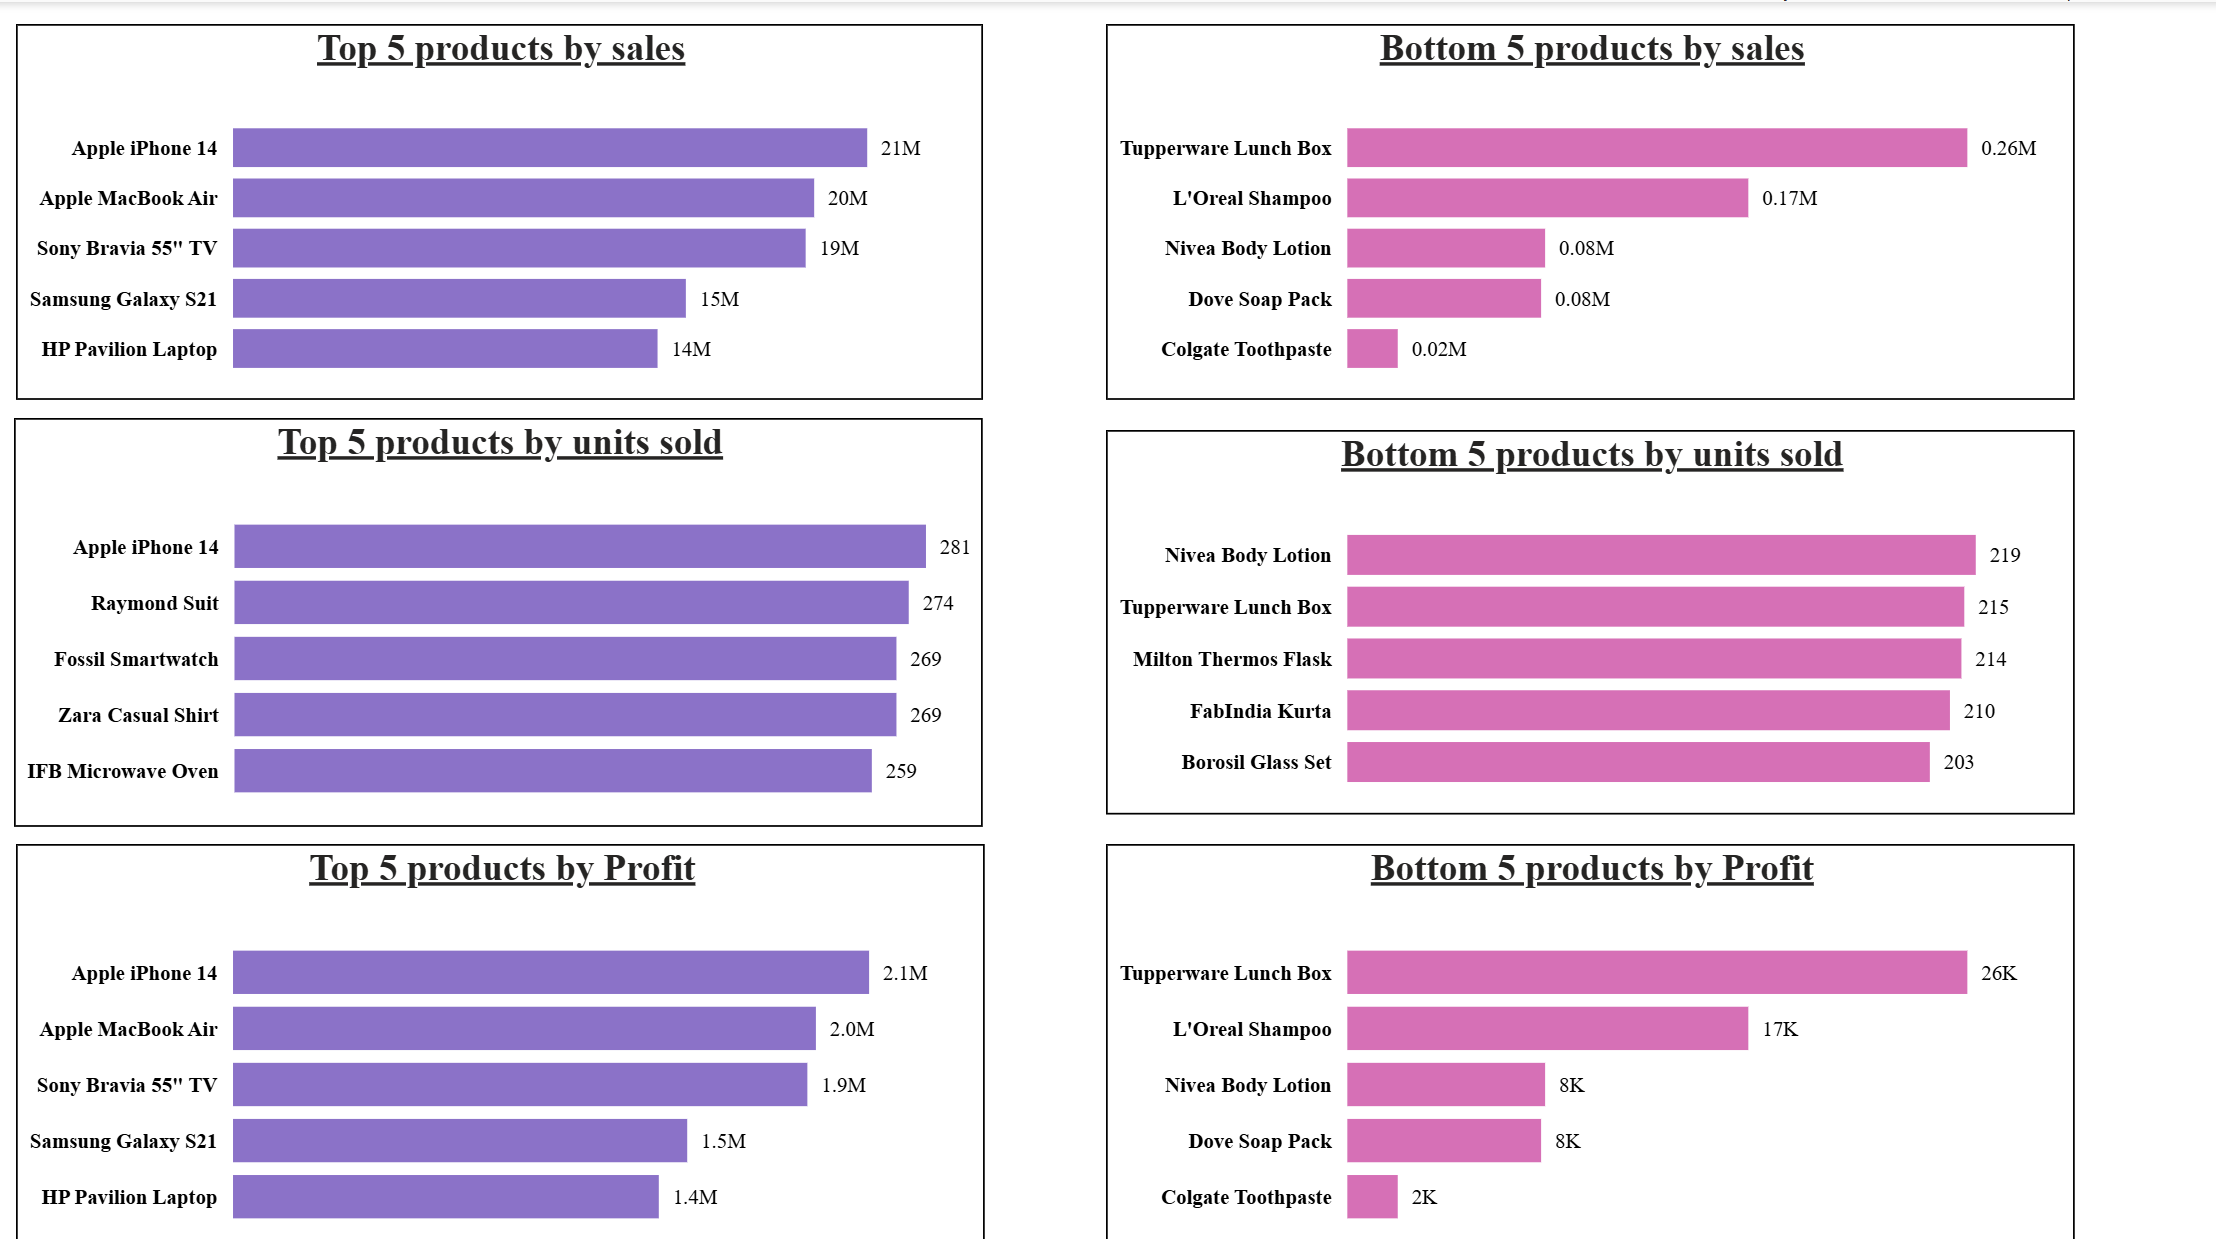

What the dashboard file says about the page in this screenshot:
{"tool":"powerbi","page":{"name":" Top/Bottom 5 Analysis","canvas":[1280,720],"ordinal":1},"visuals":[{"type":"barChart","title":"Top 5 products by sales","fields":{"Category":["Dim Product.Product Name"],"Y":["Sum(Fact Table.Net  Sales)"]},"box":[12.7,12.7,557,216.5],"z":0},{"type":"barChart","title":"Bottom 5 products by sales","fields":{"Category":["Dim Product.Product Name"],"Y":["Sum(Fact Table.Net  Sales)"]},"box":[640.5,12.7,558.2,216.5],"z":1000},{"type":"barChart","title":"Top 5 products by units sold","fields":{"Category":["Dim Product.Product Name"],"Y":["Sum(Fact Table.Units Sold)"]},"box":[11.4,239.2,558.2,235.4],"z":2000},{"type":"barChart","title":"Bottom 5 products by units sold","fields":{"Category":["Dim Product.Product Name"],"Y":["Sum(Fact Table.Units Sold)"]},"box":[640.5,246.2,558.2,221.5],"z":3000},{"type":"barChart","title":"Top 5 products by Profit","fields":{"Category":["Dim Product.Product Name"],"Y":["Sum(Fact Table.Profit)"]},"box":[12.7,484.6,558.2,235.4],"z":4000},{"type":"barChart","title":"Bottom 5 products by Profit","fields":{"Category":["Dim Product.Product Name"],"Y":["Sum(Fact Table.Profit)"]},"box":[640.5,484.6,558.2,235.4],"z":5000}]}

Visuals, with their boxes in screenshot pixels (x1, y1, x2, y2), scaled from the page's 1280x720 canvas onto the 2216x1239 screenshot:
"Top 5 products by sales" barChart: 22:22:986:394
"Bottom 5 products by sales" barChart: 1109:22:2075:394
"Top 5 products by units sold" barChart: 20:412:986:817
"Bottom 5 products by units sold" barChart: 1109:424:2075:805
"Top 5 products by Profit" barChart: 22:834:988:1238
"Bottom 5 products by Profit" barChart: 1109:834:2075:1238
